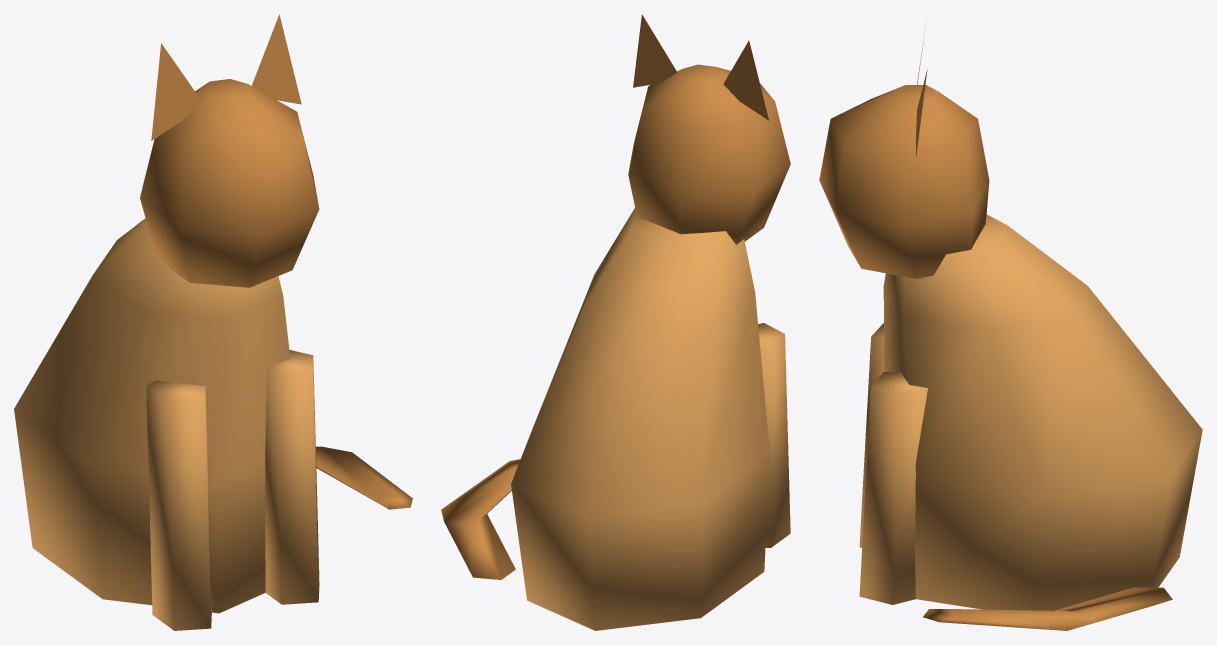
File: cat.glb
3 renders of one model, left to right at view 1: azimuth 30°, elevation 25°; view 2: azimuth 150°, elevation 25°; view 3: azimuth 270°, elevation 25°, orthographic. The views are drawn at different scales.
Parts seen in each view (by area): view 1: cat; view 2: cat; view 3: cat.
Part boxes in pixels (bbox=[...]): cat: bbox=[14, 14, 412, 630]; cat: bbox=[441, 14, 790, 630]; cat: bbox=[819, 28, 1202, 630].
Size of the model in its own units: 0.2911 by 0.5 by 0.3296.
